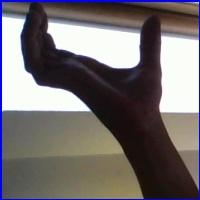space: (14, 2, 175, 134)
